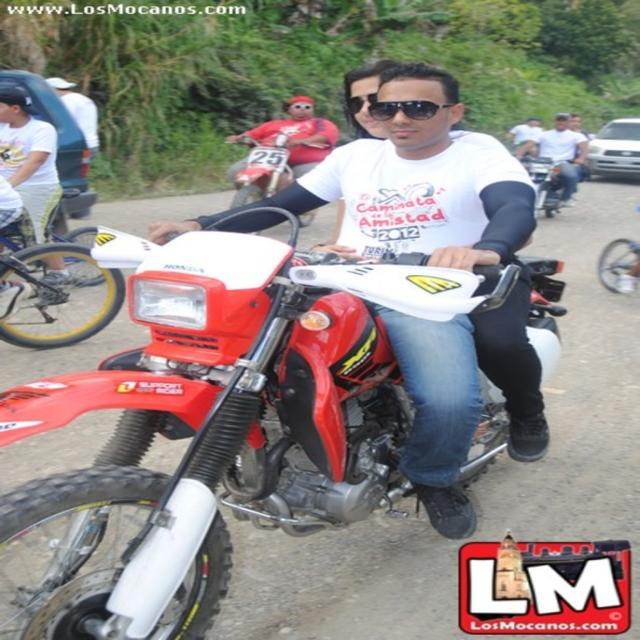Motorbikes: (4, 221, 566, 636)
